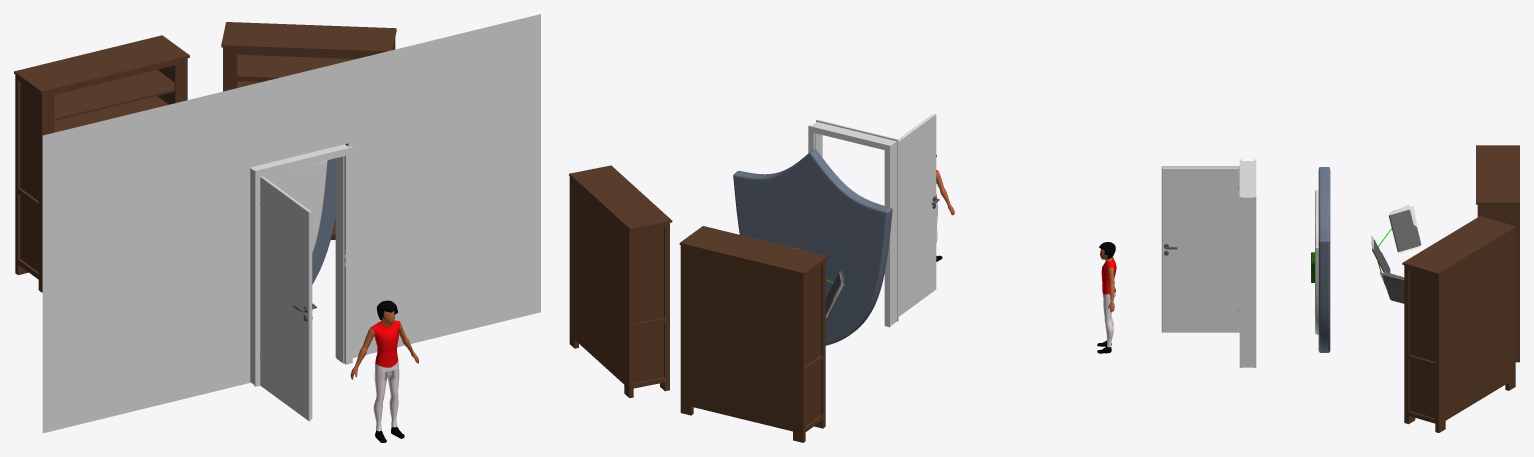
The picture shows the model from 3 angles, left to right: view 1: azimuth 30°, elevation 25°; view 2: azimuth 150°, elevation 25°; view 3: azimuth 270°, elevation 25°; orthographic projection. The views are drawn at different scales.
Visible parts, largest first — view 1: Plane, bookstand, Plane.001, bookstand_body_0.001, Plane.002, corpo.001, shield.001_2, shield_1; view 2: bookstand, bookstand_body_0.001, shield_1, Plane.001, Plane.002; view 3: bookstand_body_0.001, Plane.001, bookstand, Plane.002, shield_1, corpo.001, Folder_1Shape.001, shield.001_2, Folder_1Shape.002.
Boxes of the visible parts, x1,y1,x2,y2 form: Plane: [42, 14, 540, 433]; bookstand: [14, 35, 189, 292]; Plane.001: [260, 176, 312, 421]; bookstand_body_0.001: [221, 22, 396, 239]; Plane.002: [250, 144, 352, 386]; corpo.001: [350, 311, 418, 442]; shield.001_2: [262, 160, 327, 252]; shield_1: [312, 158, 335, 284]; bookstand: [679, 226, 827, 442]; bookstand_body_0.001: [569, 165, 672, 398]; shield_1: [733, 149, 892, 345]; Plane.001: [898, 113, 936, 316]; Plane.002: [808, 119, 898, 327]; bookstand_body_0.001: [1402, 216, 1516, 432]; Plane.001: [1161, 166, 1239, 332]; bookstand: [1476, 145, 1519, 362]; Plane.002: [1238, 159, 1256, 367]; shield_1: [1318, 167, 1330, 352]; corpo.001: [1097, 249, 1116, 353]; Folder_1Shape.001: [1388, 209, 1421, 252]; shield.001_2: [1315, 190, 1318, 334]; Folder_1Shape.002: [1382, 275, 1404, 303].
Bounding box in the file's own units: 7.22 × 4.18 × 6.7.
17 materials, 1 textured.
